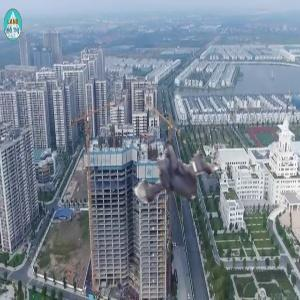drone: (129, 138, 236, 245)
